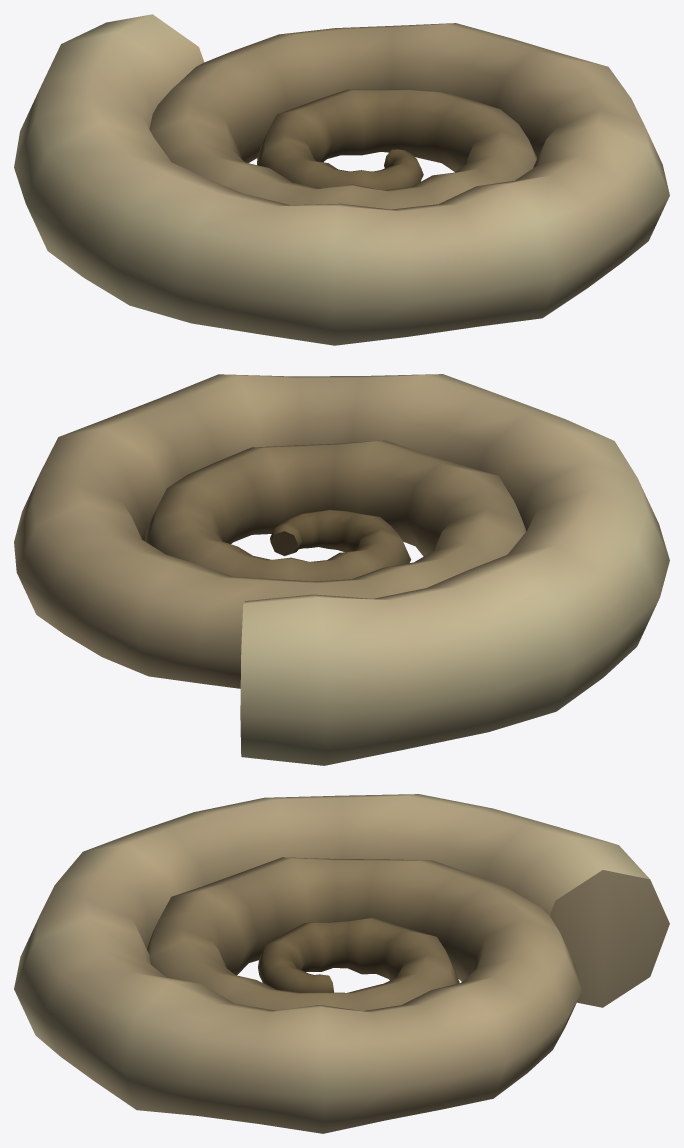
Rendered from shell.glb.
3 views of the same model, one above another, from view 1: azimuth 30°, elevation 25°; view 2: azimuth 150°, elevation 25°; view 3: azimuth 270°, elevation 25° (orthographic). The views are drawn at different scales.
Visible parts, largest first — view 1: Shell; view 2: Shell; view 3: Shell.
Part boxes in pixels (x1,y1,x2,y2): Shell: (14, 14, 669, 345); Shell: (14, 374, 669, 765); Shell: (14, 794, 669, 1133).
Bounding box in the file's own units: 0.1487 × 0.0396 × 0.1551.
